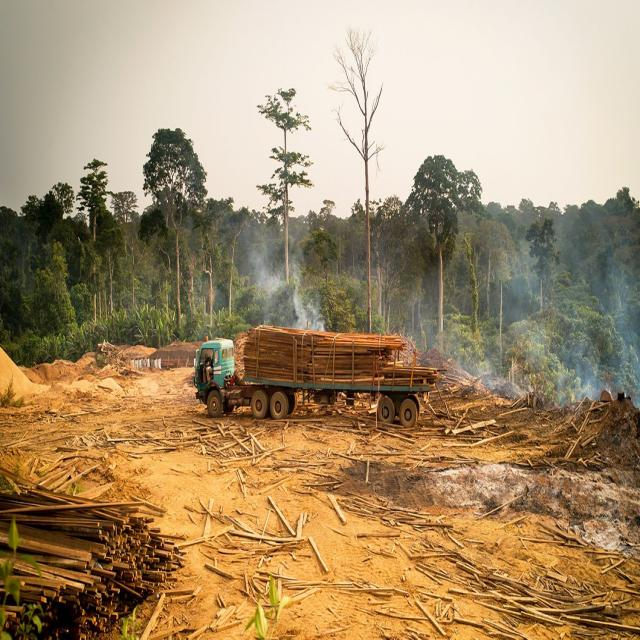Truck: (195, 318, 424, 432)
